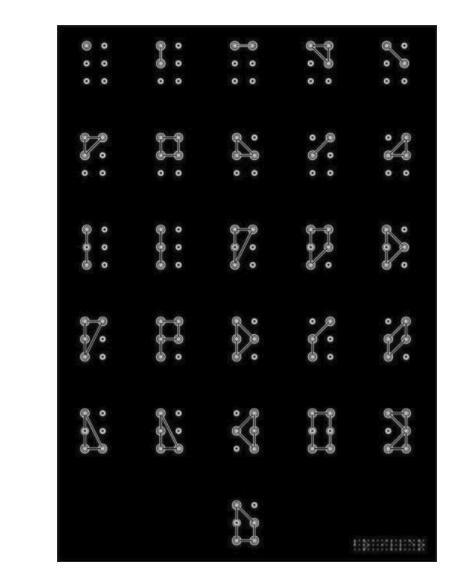Braille: (154, 315, 186, 364), (154, 40, 185, 90), (231, 132, 262, 182), (155, 223, 186, 272), (154, 132, 185, 181), (155, 407, 185, 456), (307, 407, 337, 456), (229, 40, 258, 90), (381, 40, 410, 90), (229, 224, 259, 272), (80, 407, 109, 456), (231, 315, 260, 364), (231, 500, 261, 547), (383, 315, 413, 362), (305, 41, 335, 88), (232, 407, 261, 455), (383, 407, 412, 455), (383, 132, 412, 180), (306, 224, 335, 272), (381, 224, 410, 271), (80, 132, 109, 178), (307, 132, 336, 178), (82, 224, 110, 271), (80, 317, 108, 364), (81, 41, 110, 86), (308, 315, 335, 363)
